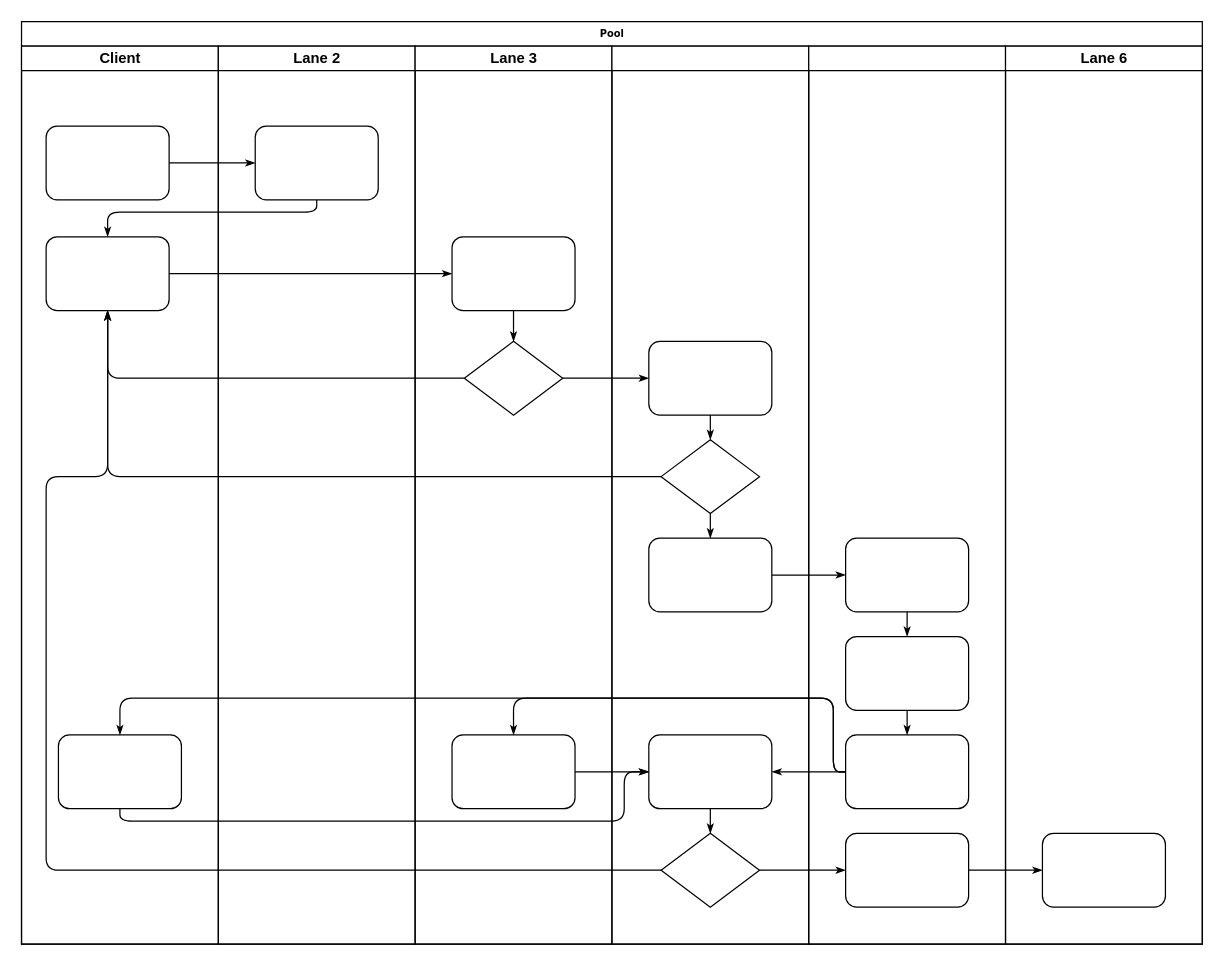
The diagram is 1224 pixels wide and 966 high, and some of its shapes have lost their labels. Here are the shapes that lost their labels. From the top down, the box of each, then its label:
(611, 45, 809, 944): Lane 4
(807, 45, 1006, 944): Lane 5
